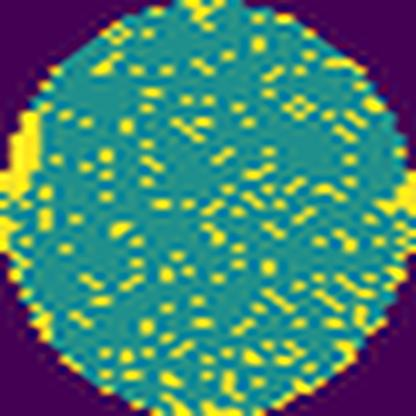Edge-Loc: (0, 104, 44, 201), (374, 169, 416, 217)
